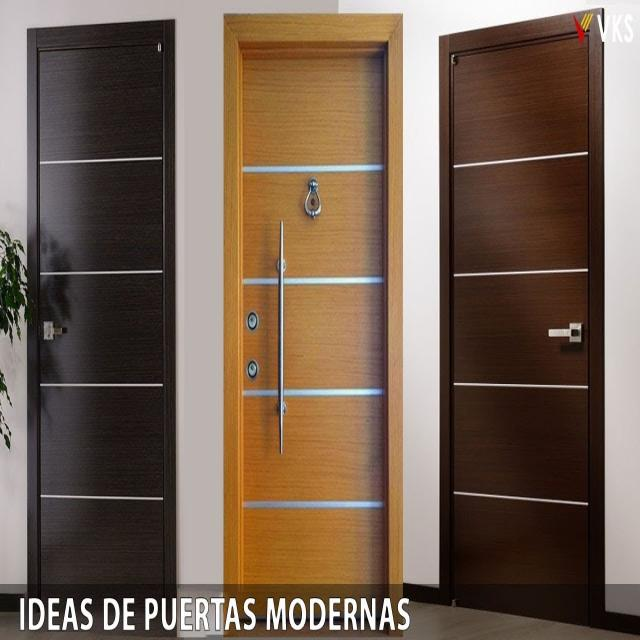door: (226, 21, 398, 631)
